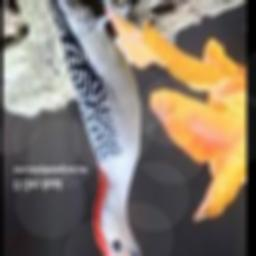Woodpecker: (25, 0, 159, 256)
